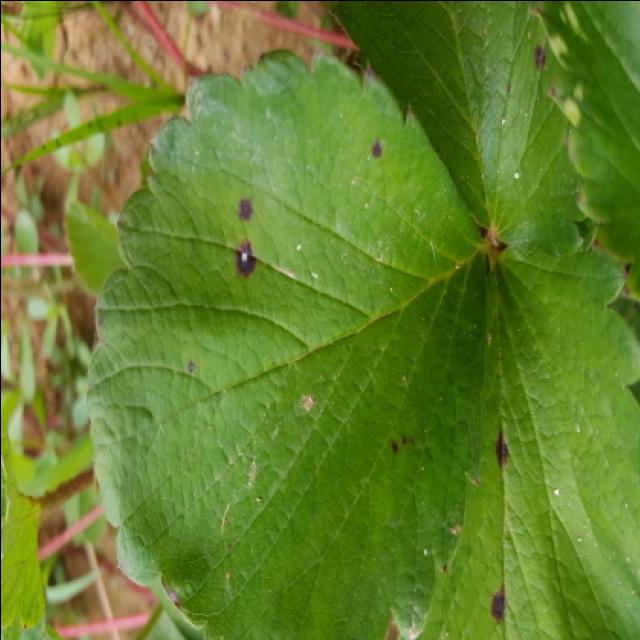Leaf Spot: (84, 47, 488, 640), (425, 217, 640, 640), (328, 2, 593, 257)
